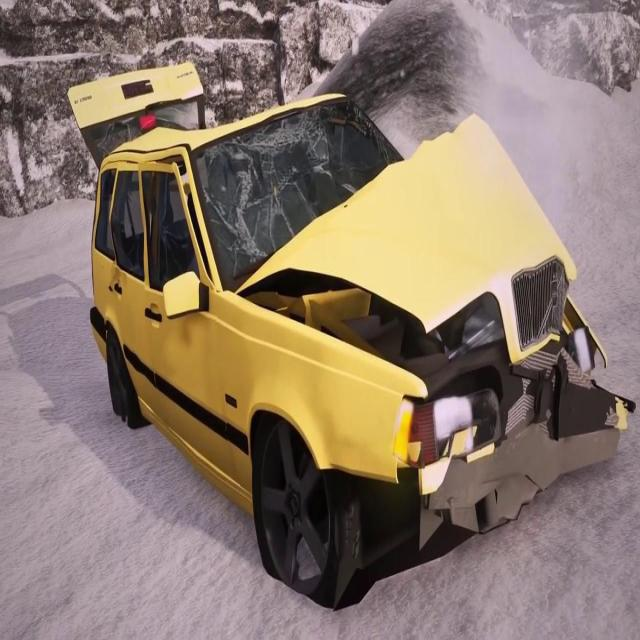severe: (65, 56, 633, 618)
